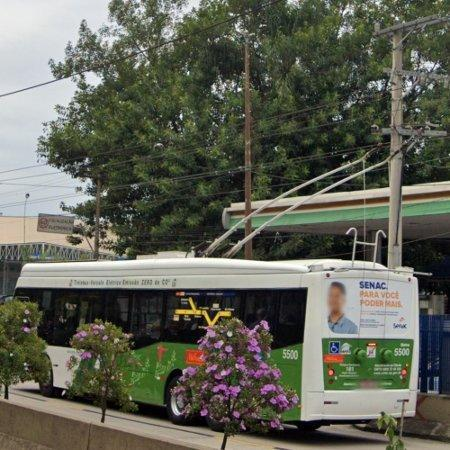buses: (15, 259, 420, 431)
